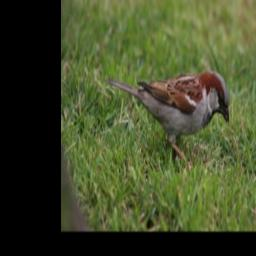Sparrow: (106, 69, 231, 172)
